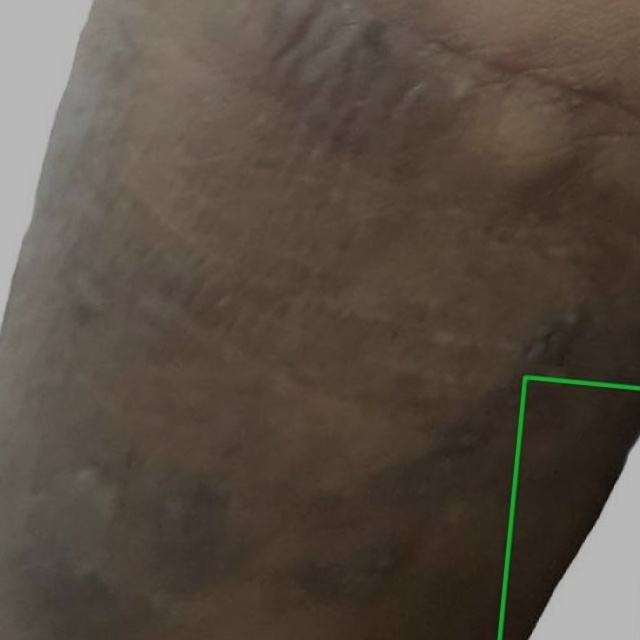Contact Dermatitis: (499, 377, 639, 639)
